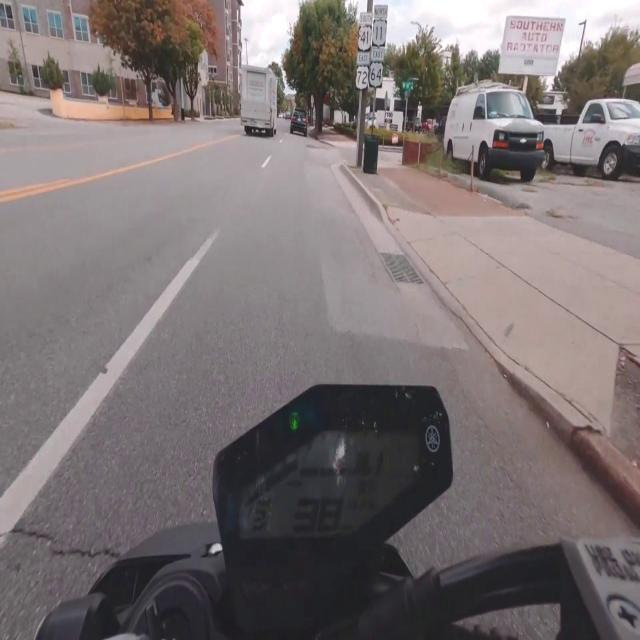car: (290, 110, 307, 136)
motorcycle: (36, 386, 639, 639)
